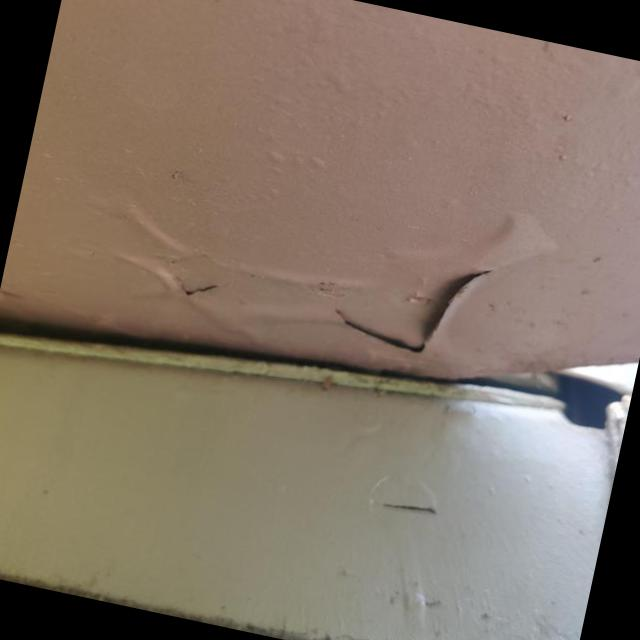Paint-off: (334, 260, 488, 350), (158, 254, 231, 296)
